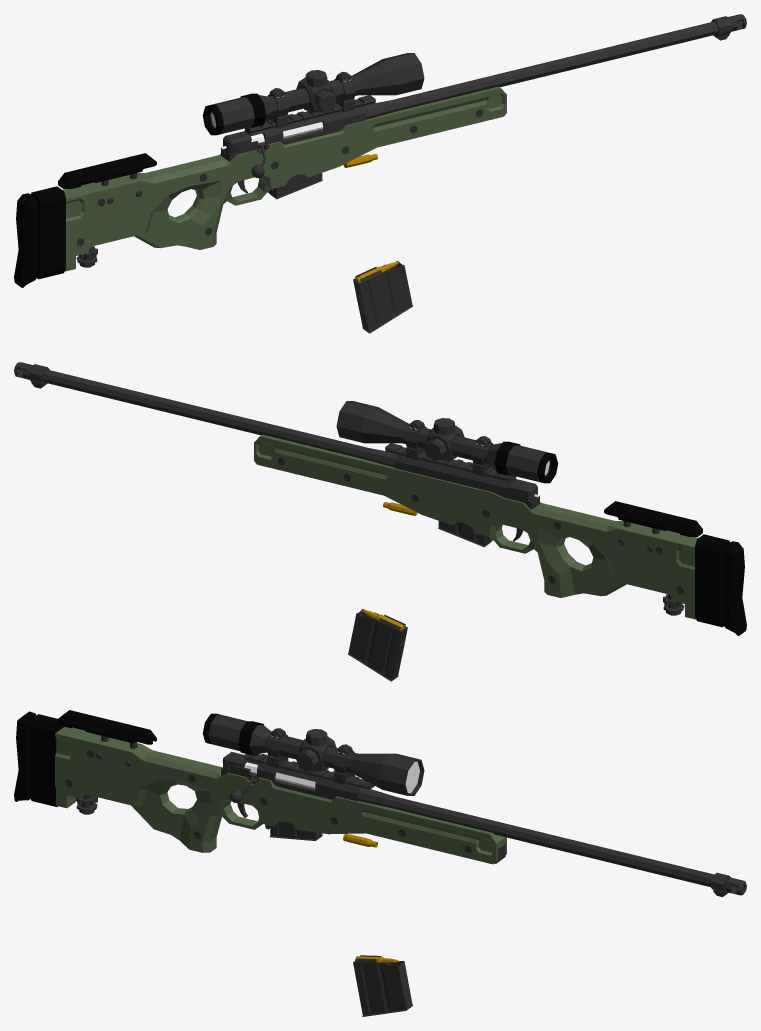
File: AWP.glb
3 renders of one model, top to bottom at view 1: azimuth 30°, elevation 25°; view 2: azimuth 150°, elevation 25°; view 3: azimuth 330°, elevation 25°, orthographic.
Parts seen in each view (by area): view 1: gun_4, hawke endurance _9, 7.62x51 mag empty_2, stock_6, cheek_5, bolt_7, 7.62x51 mag_1, muzzle_3; view 2: gun_4, hawke endurance _9, 7.62x51 mag empty_2, stock_6, cheek_5, 7.62x51 mag_1, muzzle_3, bolt_7; view 3: gun_4, hawke endurance _9, 7.62x51 mag empty_2, cheek_5, stock_6, bolt_7, muzzle_3, 7.62x51 mag_1.
Boxes of the visible parts, bbox=[...] form: gun_4: bbox=[30, 21, 718, 279]; hawke endurance _9: bbox=[202, 53, 424, 135]; 7.62x51 mag empty_2: bbox=[353, 261, 412, 333]; stock_6: bbox=[14, 193, 37, 287]; cheek_5: bbox=[58, 153, 156, 188]; bolt_7: bbox=[221, 122, 323, 177]; 7.62x51 mag_1: bbox=[270, 173, 322, 199]; muzzle_3: bbox=[711, 14, 746, 40]; gun_4: bbox=[42, 369, 730, 627]; hawke endurance _9: bbox=[336, 401, 558, 483]; 7.62x51 mag empty_2: bbox=[348, 609, 407, 681]; stock_6: bbox=[723, 541, 746, 635]; cheek_5: bbox=[604, 501, 702, 536]; 7.62x51 mag_1: bbox=[438, 521, 490, 547]; muzzle_3: bbox=[14, 362, 49, 388]; bolt_7: bbox=[509, 479, 539, 501]; gun_4: bbox=[29, 714, 713, 887]; hawke endurance _9: bbox=[202, 713, 424, 795]; 7.62x51 mag empty_2: bbox=[353, 955, 413, 1016]; cheek_5: bbox=[58, 710, 156, 748]; stock_6: bbox=[14, 711, 36, 801]; bolt_7: bbox=[221, 751, 315, 802]; muzzle_3: bbox=[711, 872, 746, 896]; 7.62x51 mag_1: bbox=[269, 821, 322, 840].
Bounding box in the file's own units: 1.18 × 0.4171 × 0.0728.
